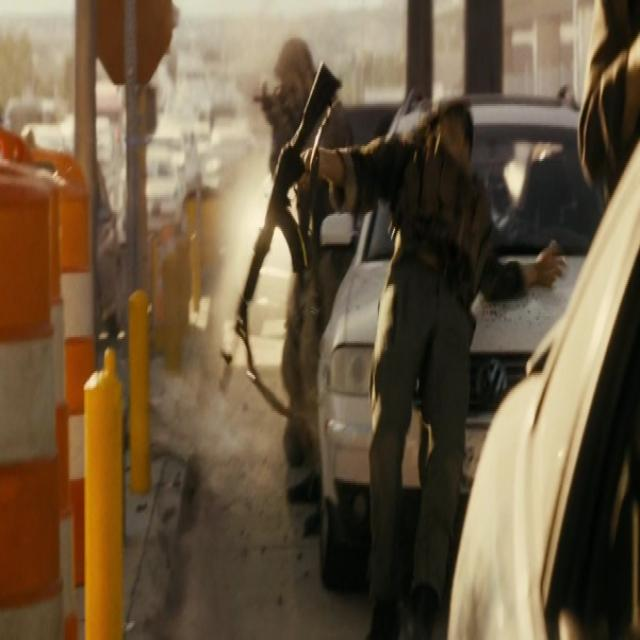rifle: (219, 64, 342, 397)
